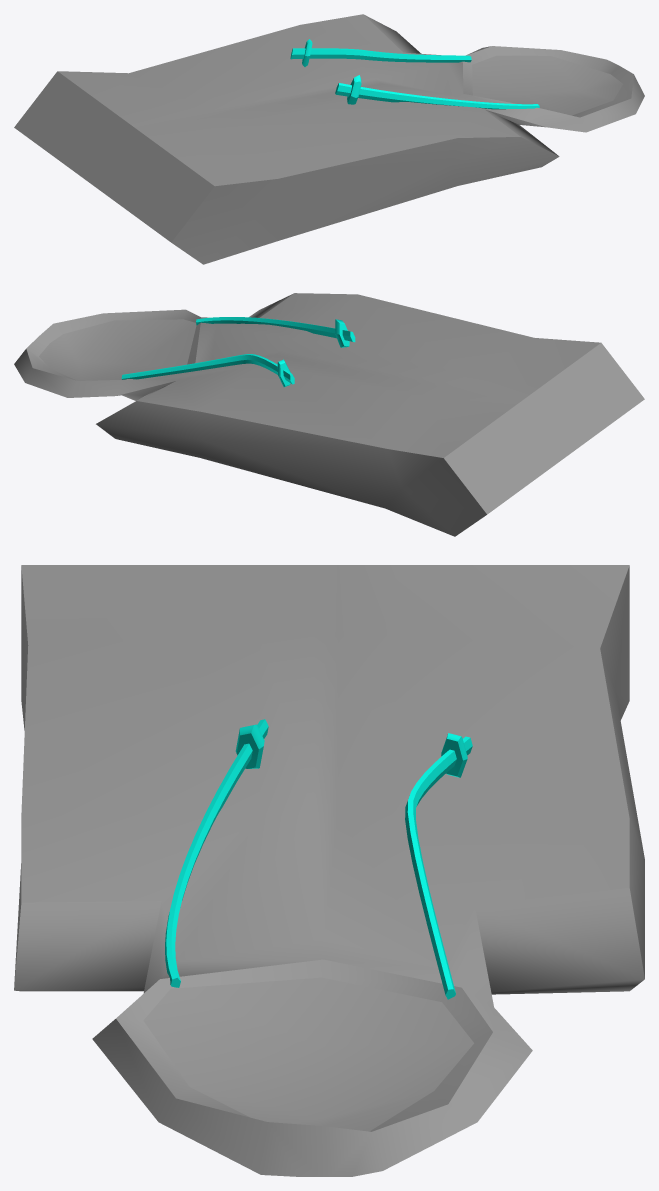
The model's file is SM_TelephoneScene_SweatChris.FBX.
3 renders of one model, top to bottom at view 1: azimuth 30°, elevation 25°; view 2: azimuth 150°, elevation 25°; view 3: azimuth 270°, elevation 25°, orthographic. The views are drawn at different scales.
Visible parts, largest first — view 1: Box056; view 2: Box056; view 3: Box056.
Boxes of the visible parts, x1,y1,x2,y2 form: Box056: (14,14,644,264); Box056: (14,293,644,536); Box056: (14,565,644,1176).
Bounding box in the file's own units: 66.55 × 11.8 × 35.1.
